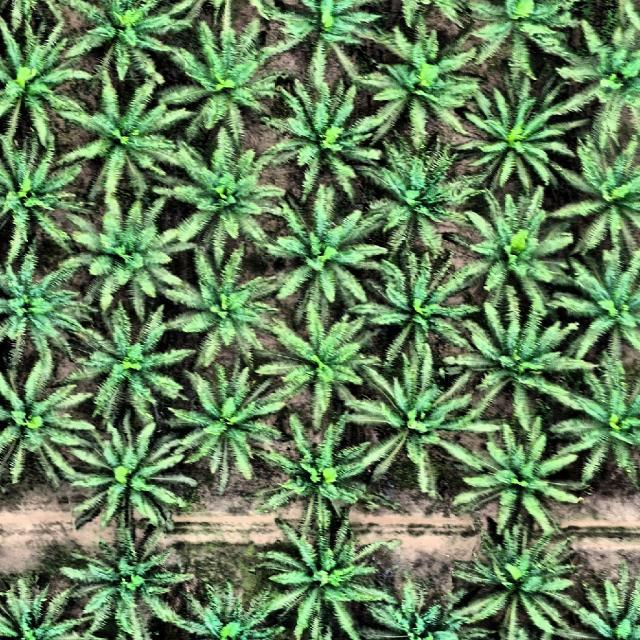Kelapa_Sawit: (454, 297, 576, 422), (170, 245, 292, 367), (78, 417, 194, 539), (461, 72, 578, 192), (74, 310, 198, 420), (268, 84, 384, 200), (270, 520, 384, 638), (1, 350, 90, 497), (466, 186, 574, 306), (272, 198, 386, 311), (464, 422, 575, 533), (464, 528, 574, 640), (185, 370, 282, 492), (168, 139, 276, 245), (80, 88, 188, 192), (372, 34, 476, 139), (272, 424, 376, 526), (276, 314, 376, 420), (374, 360, 459, 484), (376, 246, 468, 360), (0, 11, 78, 144), (562, 248, 640, 372), (176, 32, 274, 130), (90, 208, 188, 306), (556, 364, 640, 478), (80, 0, 186, 86), (86, 536, 183, 625), (0, 137, 70, 260), (372, 152, 461, 248), (565, 24, 640, 134), (266, 5, 386, 70), (0, 256, 75, 355), (462, 0, 568, 70), (572, 148, 640, 254), (0, 565, 84, 640), (365, 587, 462, 640), (564, 573, 640, 640), (182, 589, 270, 640)
